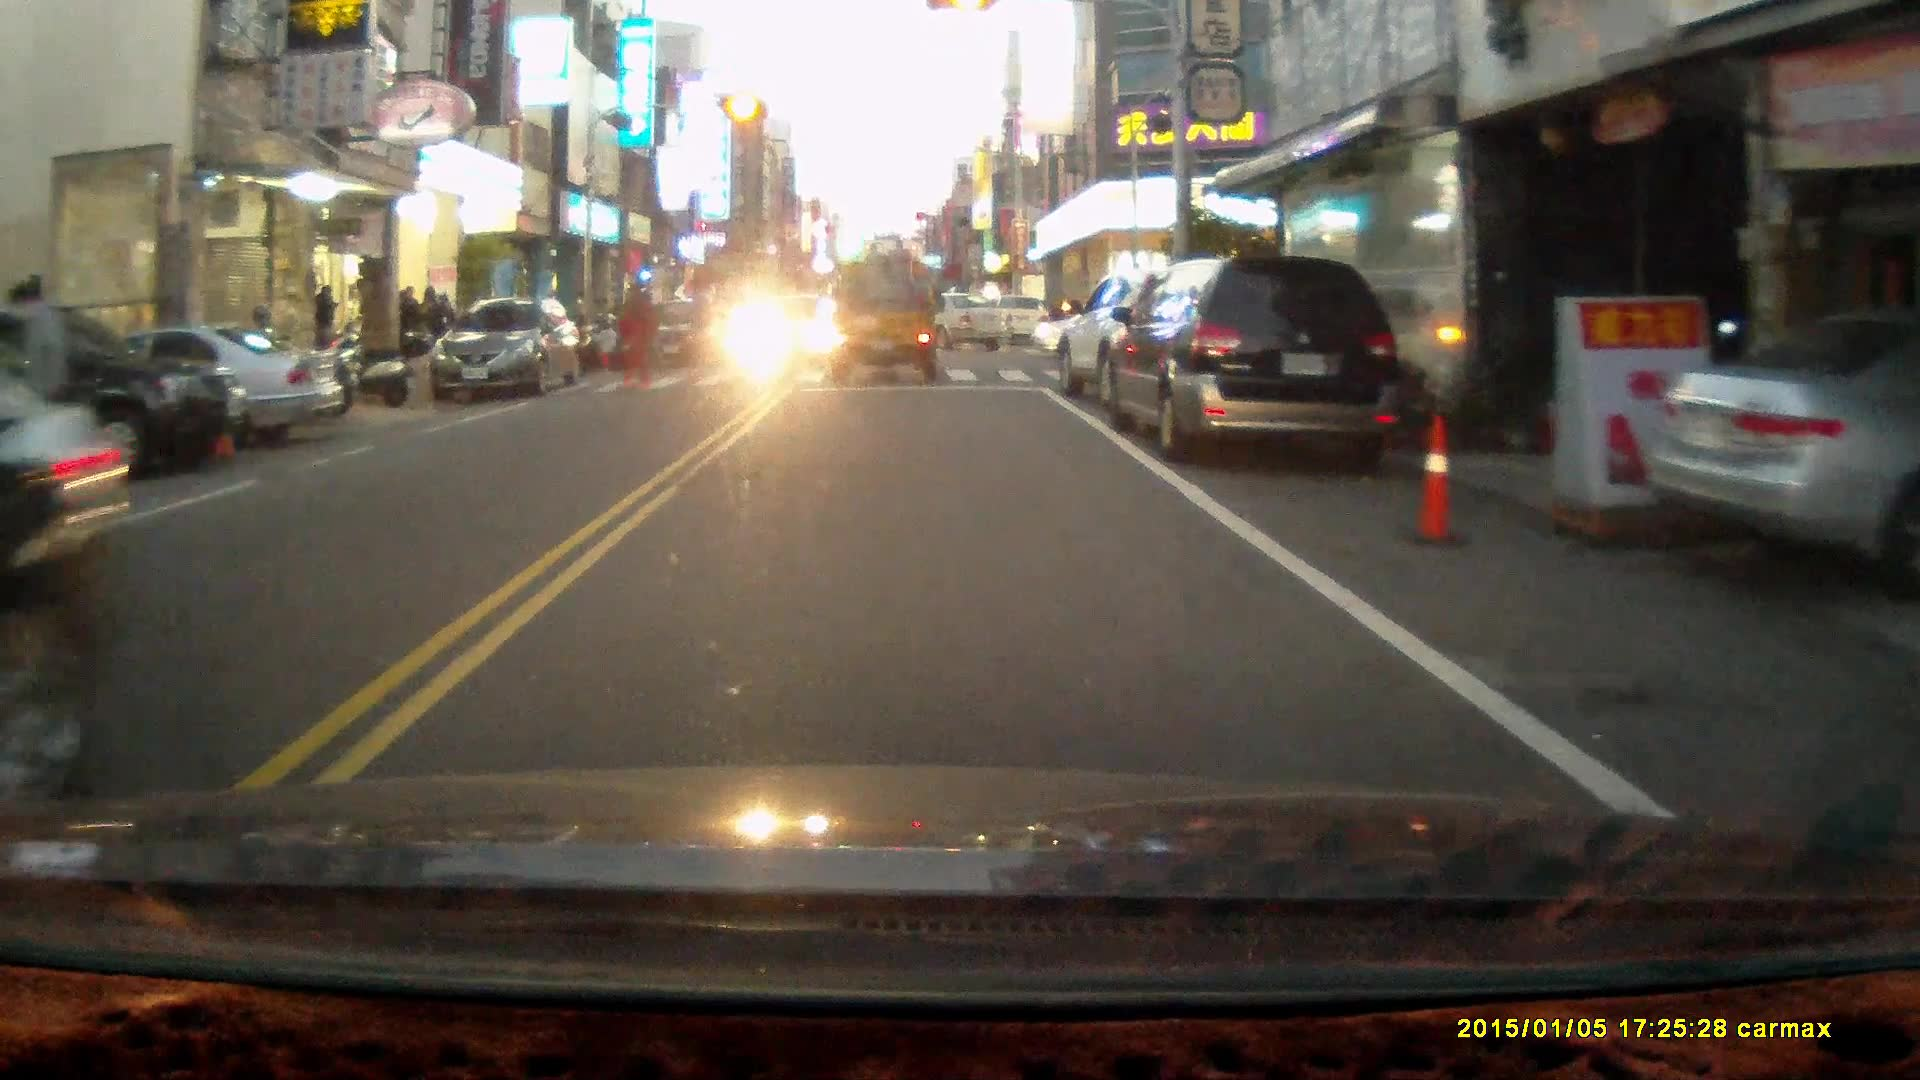pedestrian: (6, 276, 67, 473), (614, 282, 646, 388), (311, 282, 340, 365), (592, 319, 619, 375)
vehicle: (1098, 253, 1402, 464), (1648, 323, 1920, 551), (1, 377, 131, 838), (1, 297, 250, 479), (30, 326, 344, 446), (1055, 272, 1268, 422), (820, 236, 947, 387), (437, 301, 586, 403), (880, 295, 1015, 355), (634, 299, 729, 366)
